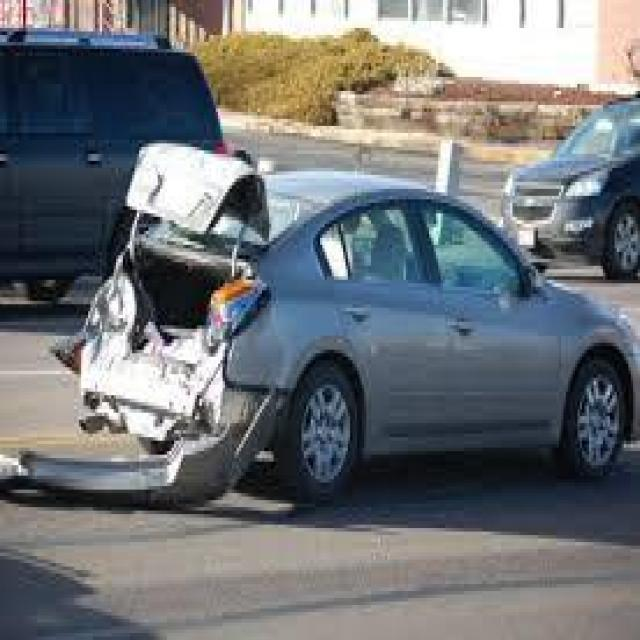damaged: (60, 136, 283, 482)
